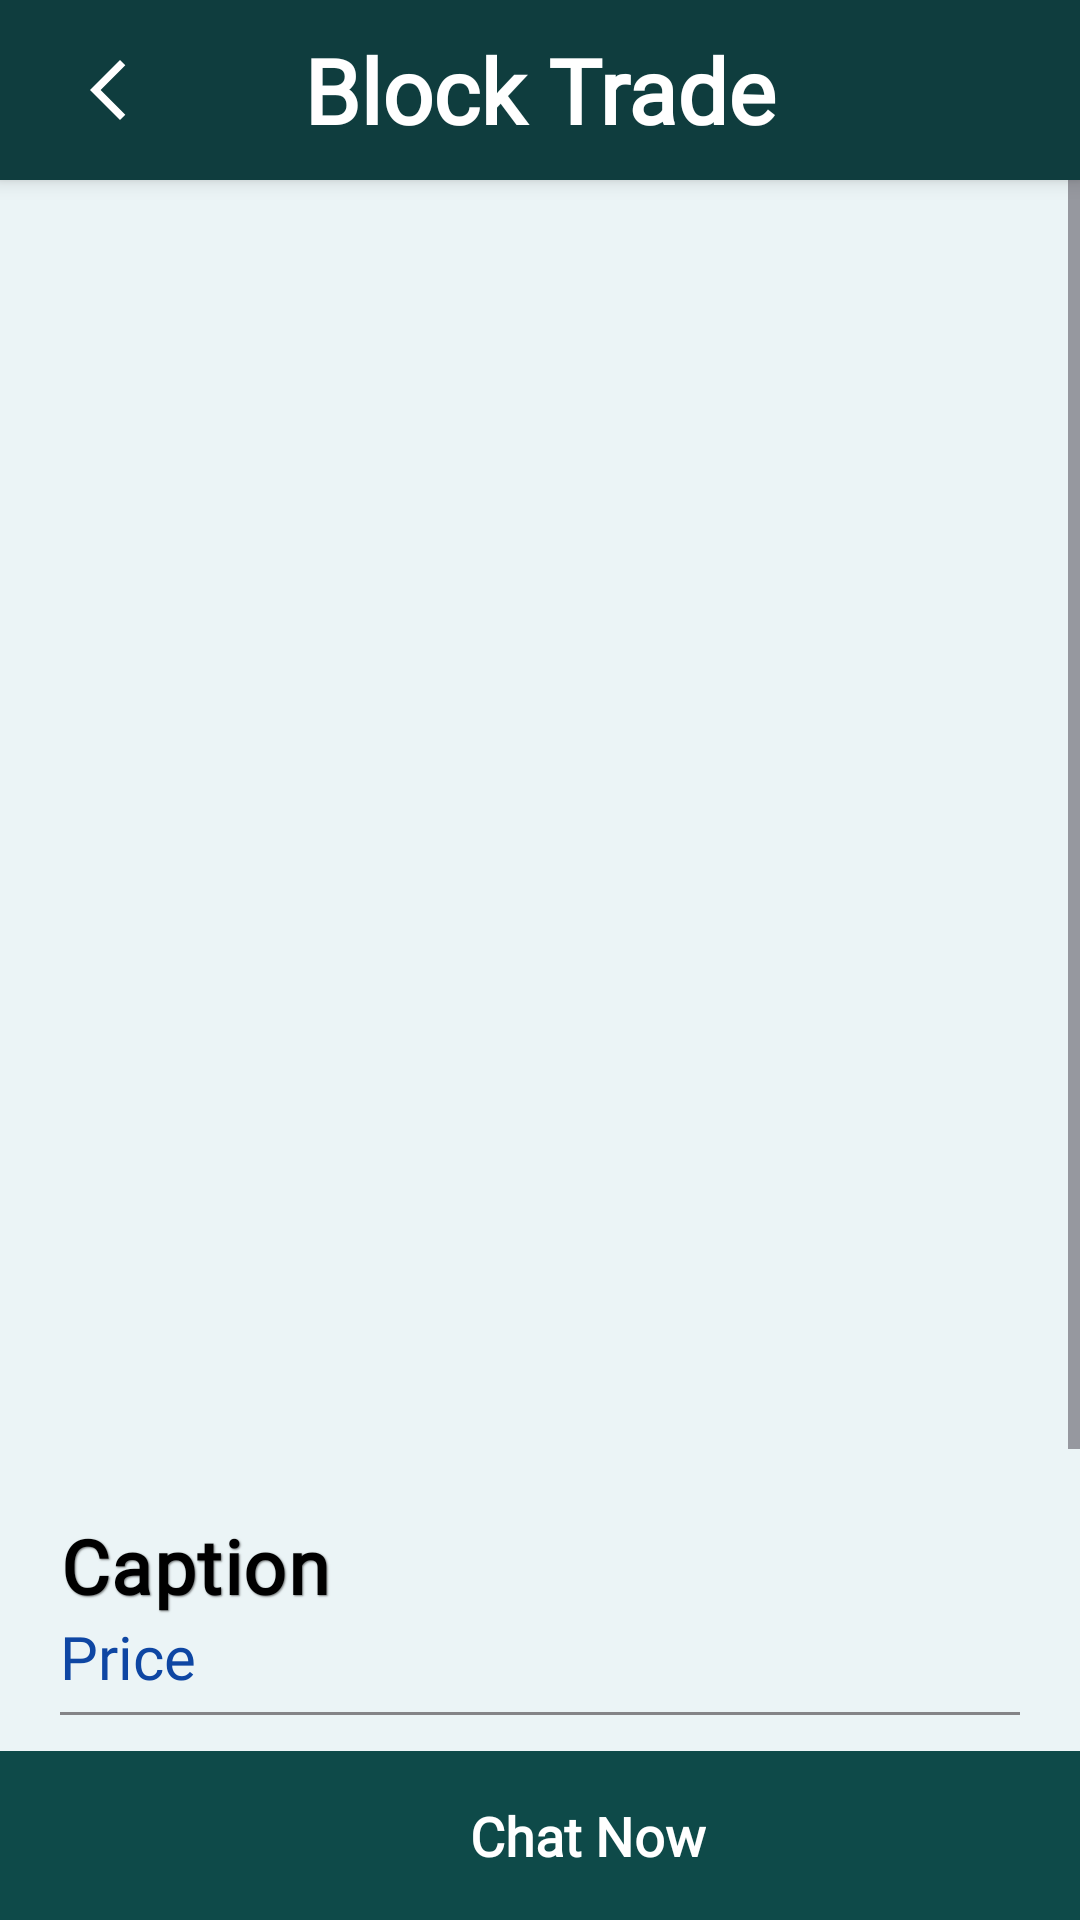

Icon click points for this 1080*1920 phone screenshot, format (x,y):
back: (107,90)
